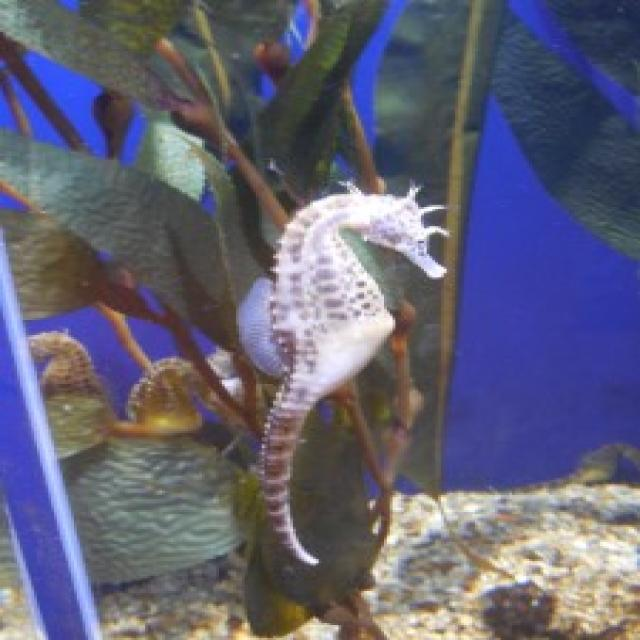Seahorse: (226, 183, 482, 582)
